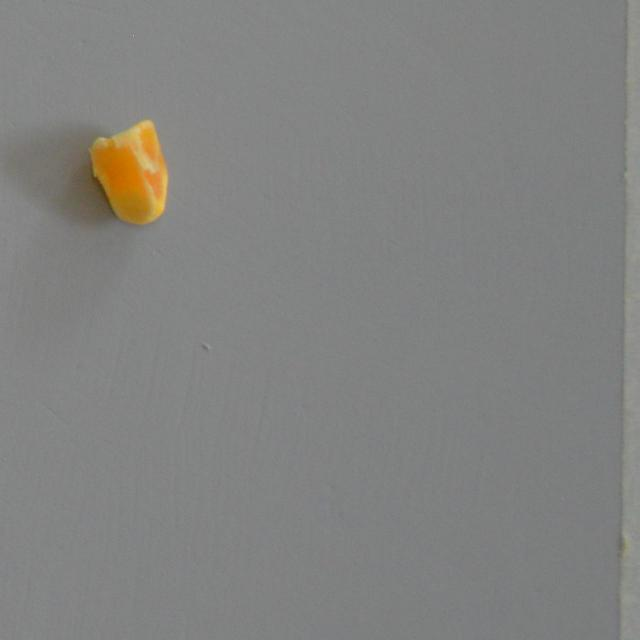pelicula: (86, 116, 169, 226)
